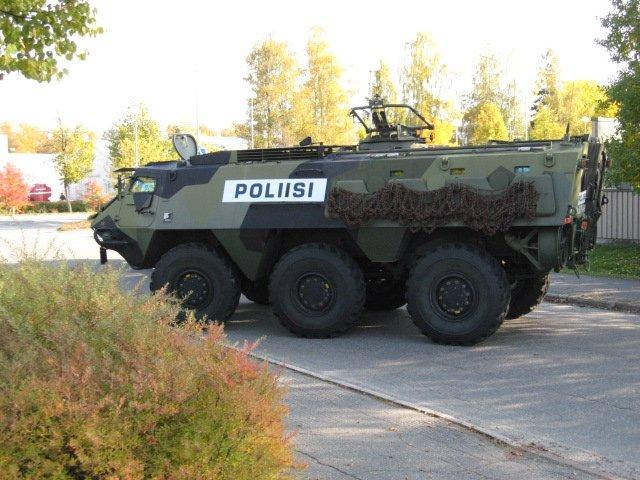MIL_IFV: (91, 100, 610, 347)
